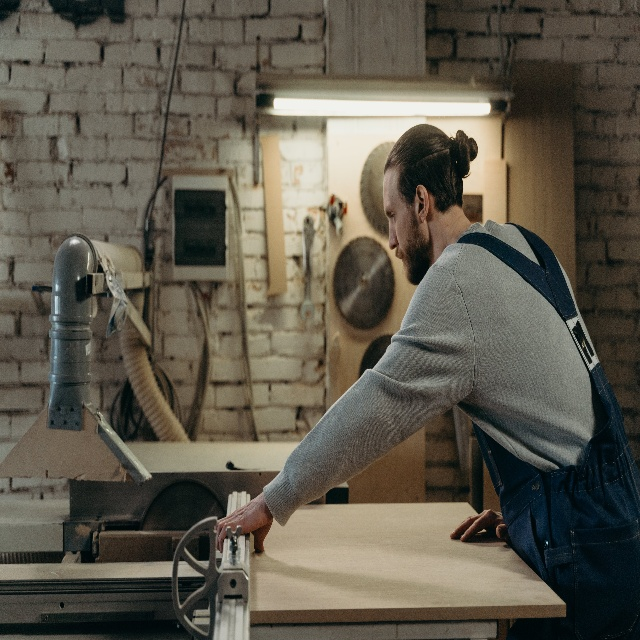Sin_guantes: (216, 494, 274, 554), (450, 510, 508, 542)
